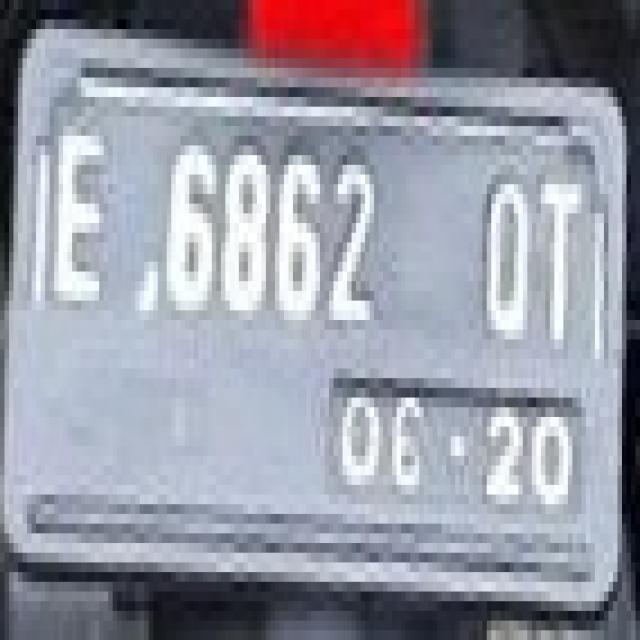plate: (27, 49, 604, 562)
